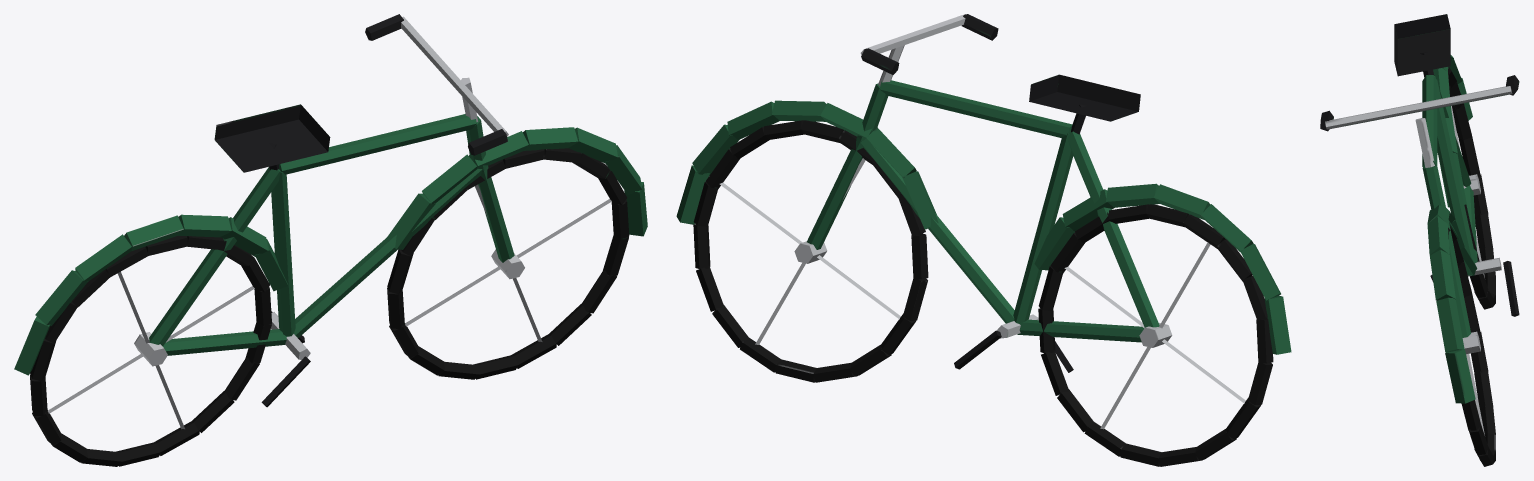
Rendered from kolo_ff741add.glb.
The picture shows the model from 3 angles, left to right: view 1: azimuth 30°, elevation 25°; view 2: azimuth 150°, elevation 25°; view 3: azimuth 270°, elevation 25°; orthographic projection. The views are drawn at different scales.
Visible parts, largest first — view 1: dum; view 2: dum; view 3: dum.
Boxes of the visible parts, left/top/right/bottom form: dum: left=14, top=14, right=647, bottom=466; dum: left=676, top=14, right=1291, bottom=466; dum: left=1320, top=14, right=1519, bottom=466.
Size of the model in its own units: 1.95 by 1.09 by 0.5868.
1 material, 1 textured.
